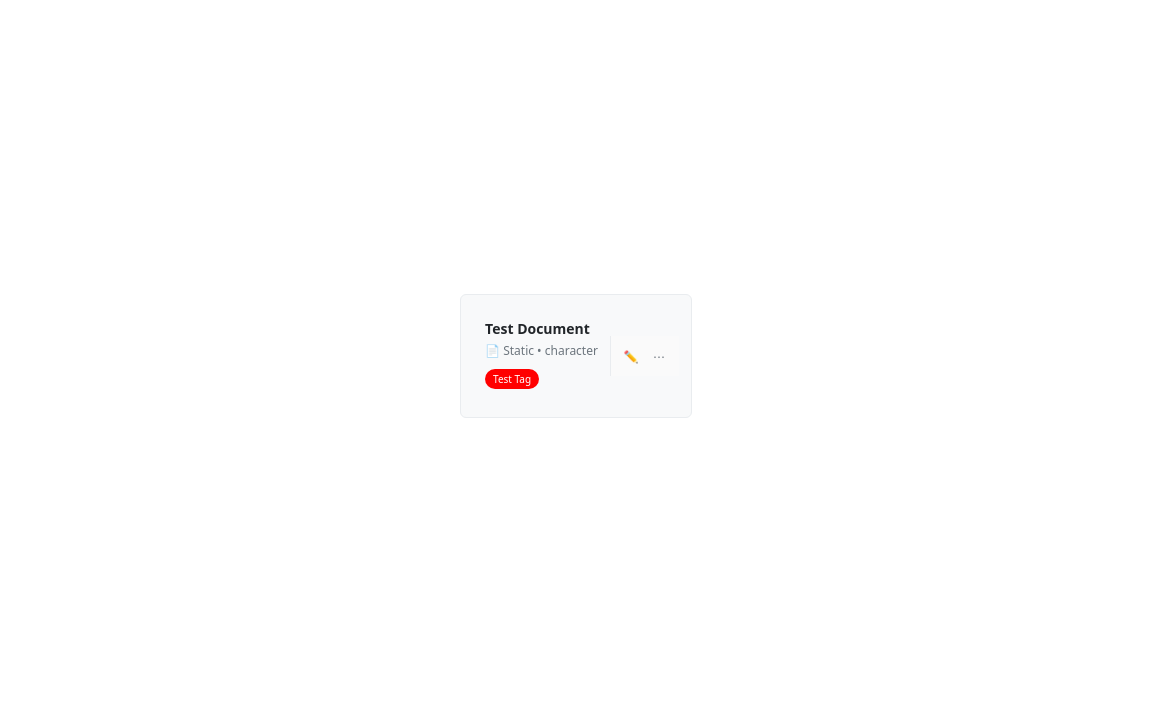
it: DocumentListItem › closes dropdown when clicking outside
// Open dropdown
Click the button titled "More actions" at {"x": 659, "y": 356}, box [647,344,671,368]
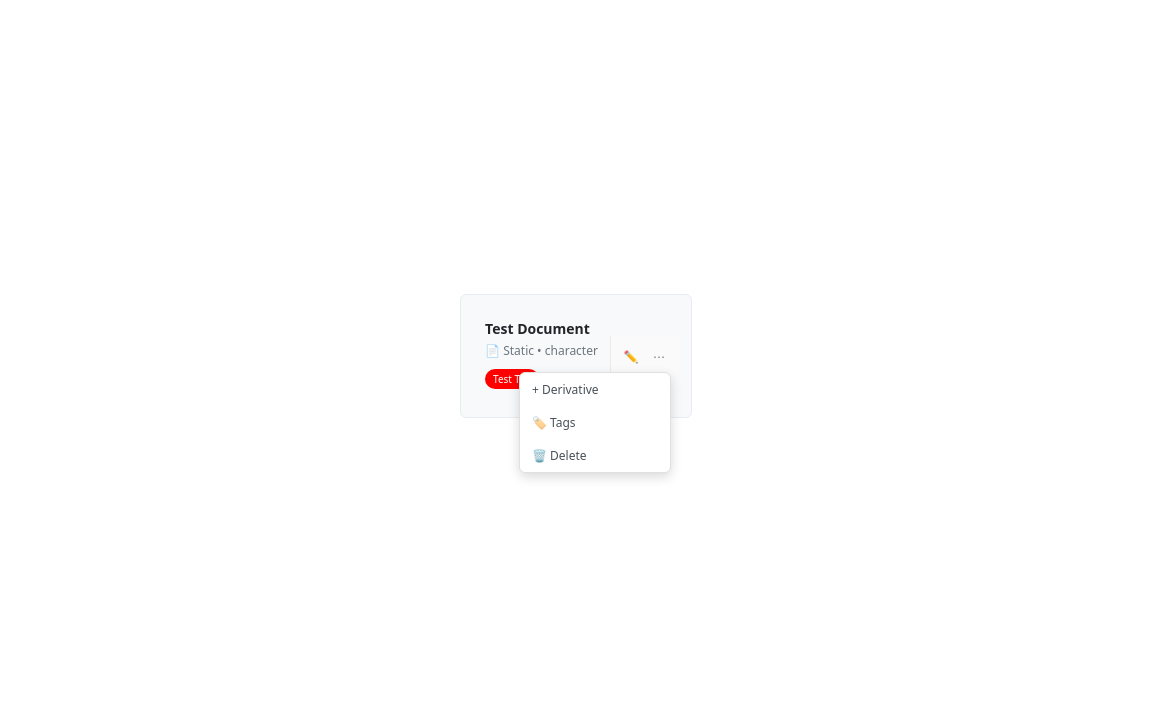
Check: the button "+ Derivative" is shown, box [520,373,670,406]
// Click outside (on document.body)
Press the mouse on the element that starts with "Test Document" at {"x": 576, "y": 360}, box [0,0,1151,719]
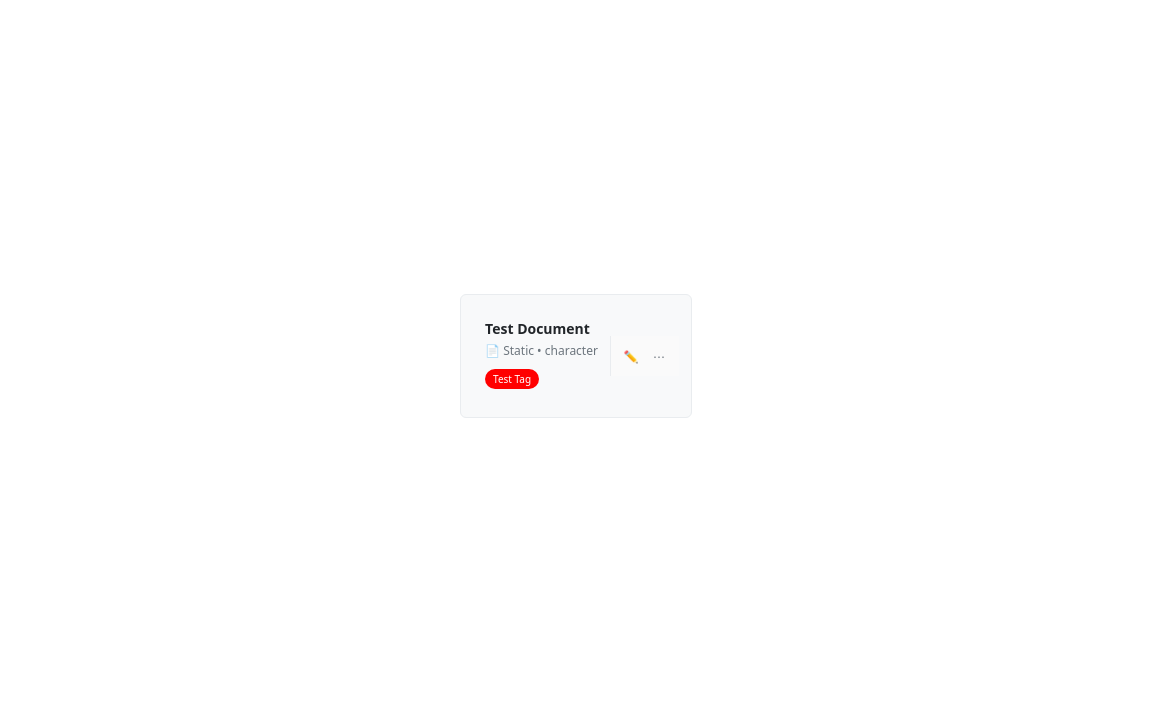
Check: the button "+ Derivative" is gone
